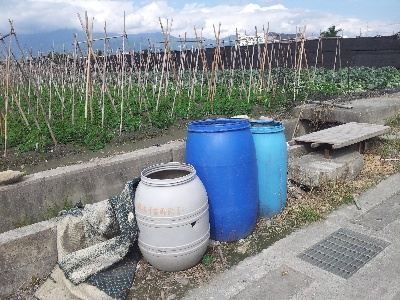bucket: (186, 119, 260, 242), (133, 161, 212, 271)
